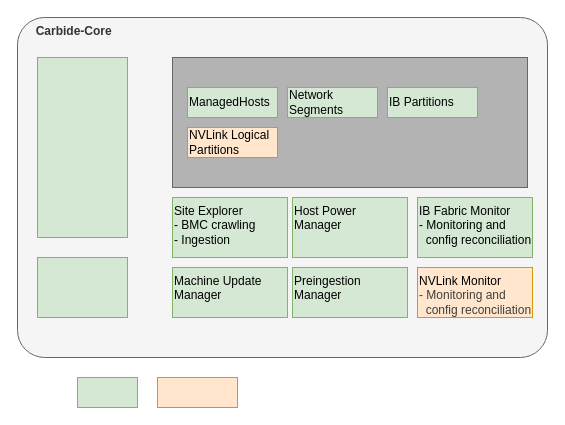
The diagram is 565 pixels wide and 425 high, and some of its shapes have lost their labels. The box of each missing label's shape, as (x1, y1, x2, y2) in pixels:
available: (76, 376, 138, 408)
Debug Web UI: (36, 256, 128, 318)
gRPC APIs: (36, 56, 128, 238)
in-progress: (156, 376, 238, 408)
State Machines: (172, 56, 528, 188)
